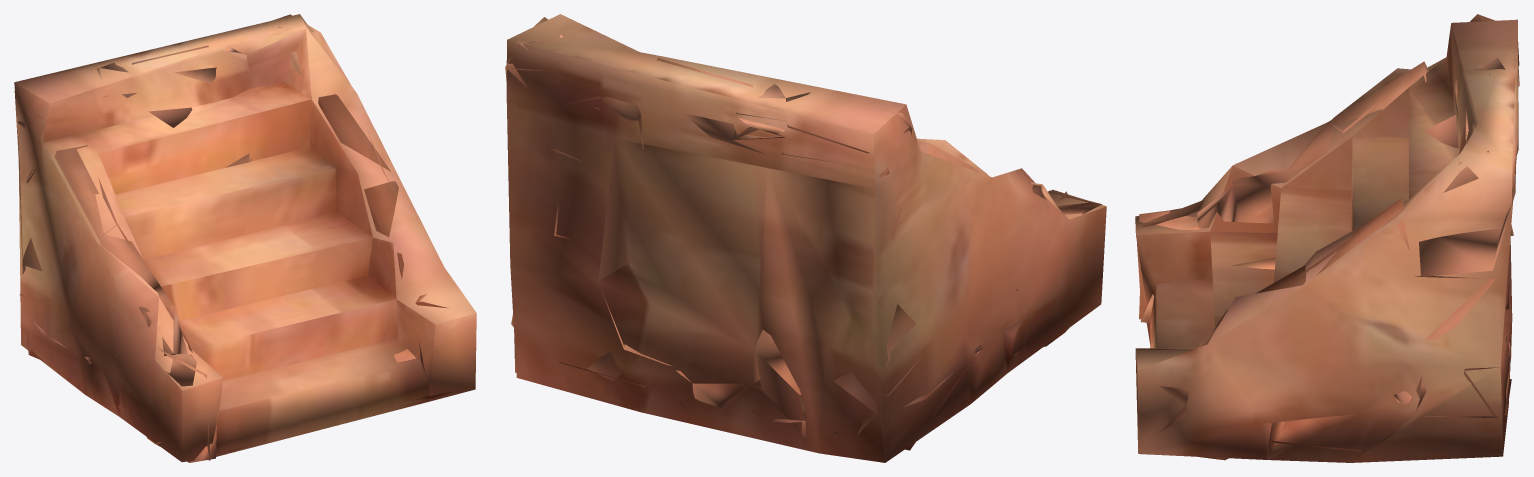
File: lg-ruined-amphitheatre.glb
3 renders of one model, left to right at view 1: azimuth 30°, elevation 25°; view 2: azimuth 150°, elevation 25°; view 3: azimuth 270°, elevation 25°, orthographic. The views are drawn at different scales.
Parts seen in each view (by area): view 1: geometry_0; view 2: geometry_0; view 3: geometry_0.
Part boxes in pixels (<box>): geometry_0: <box>14,14,476,462</box>; geometry_0: <box>505,14,1106,462</box>; geometry_0: <box>1135,14,1519,462</box>.
Size of the model in its own units: 0.9905 by 0.8539 by 1.
1 material, 1 textured.
